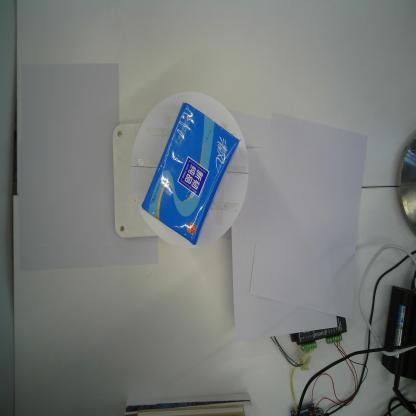Tissue: (142, 101, 239, 246)
